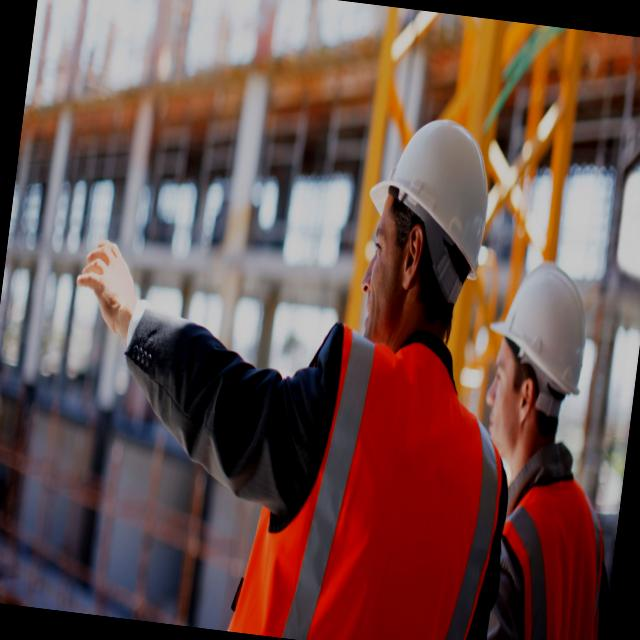helmet: (356, 109, 500, 314), (480, 255, 596, 419)
no-goggles: (366, 206, 416, 279), (488, 354, 516, 399)
vest: (224, 308, 523, 640), (485, 468, 619, 640)
